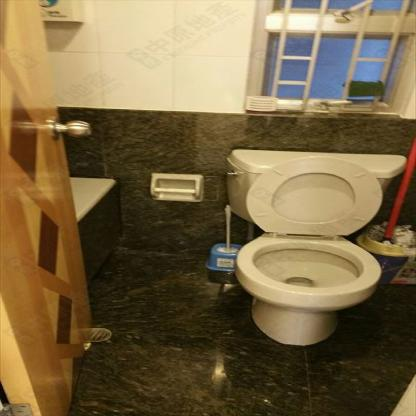Toilet: (227, 149, 409, 344)
